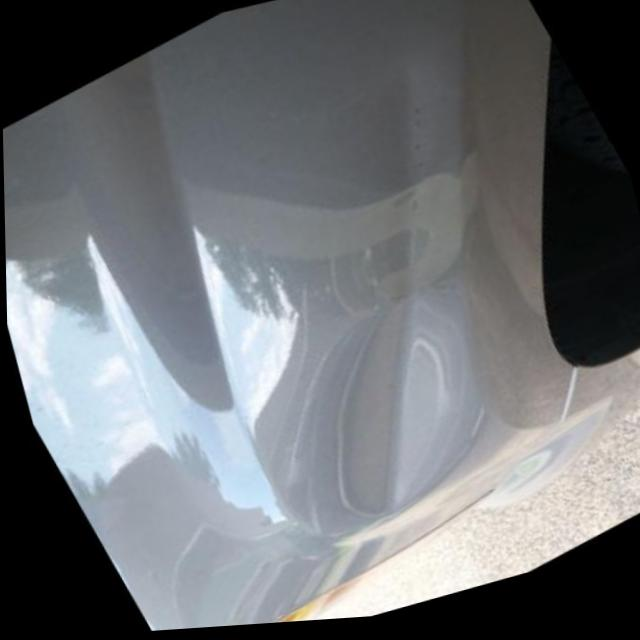Dent: (264, 238, 561, 582)
